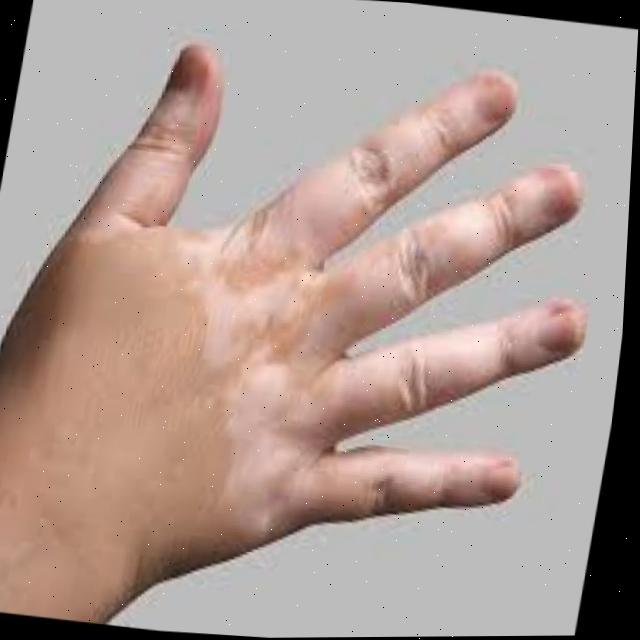Eczema: (158, 228, 409, 484)
